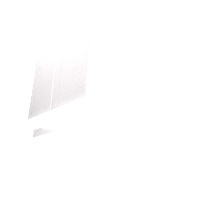foam_box: (20, 28, 206, 178)
